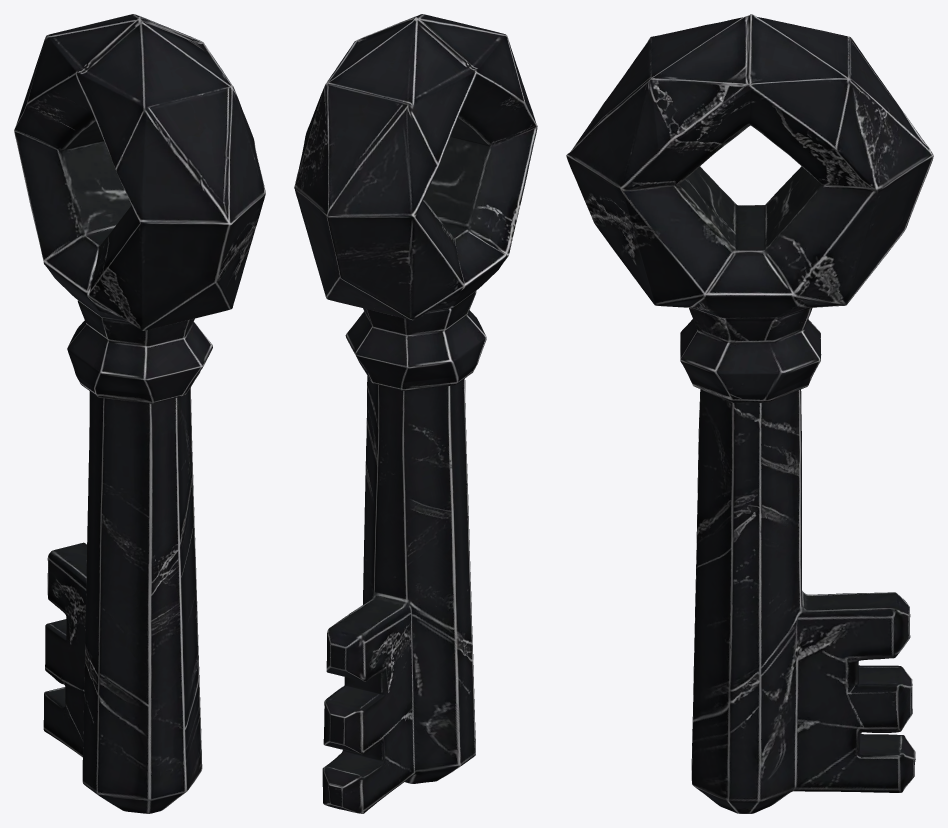
3 renders of one model, left to right at view 1: azimuth 30°, elevation 25°; view 2: azimuth 150°, elevation 25°; view 3: azimuth 270°, elevation 25°, orthographic. The views are drawn at different scales.
Parts seen in each view (by area): view 1: tripo_node_f4c985f6-44e0-4897-9321-e5349ed27e28; view 2: tripo_node_f4c985f6-44e0-4897-9321-e5349ed27e28; view 3: tripo_node_f4c985f6-44e0-4897-9321-e5349ed27e28.
Part boxes in pixels (<box>): tripo_node_f4c985f6-44e0-4897-9321-e5349ed27e28: <box>14,14,265,813</box>; tripo_node_f4c985f6-44e0-4897-9321-e5349ed27e28: <box>294,14,537,813</box>; tripo_node_f4c985f6-44e0-4897-9321-e5349ed27e28: <box>566,14,933,813</box>.
Size of the model in its own units: 0.1975 by 1 by 0.4217.
Materials: 1 (1 with a texture image).
